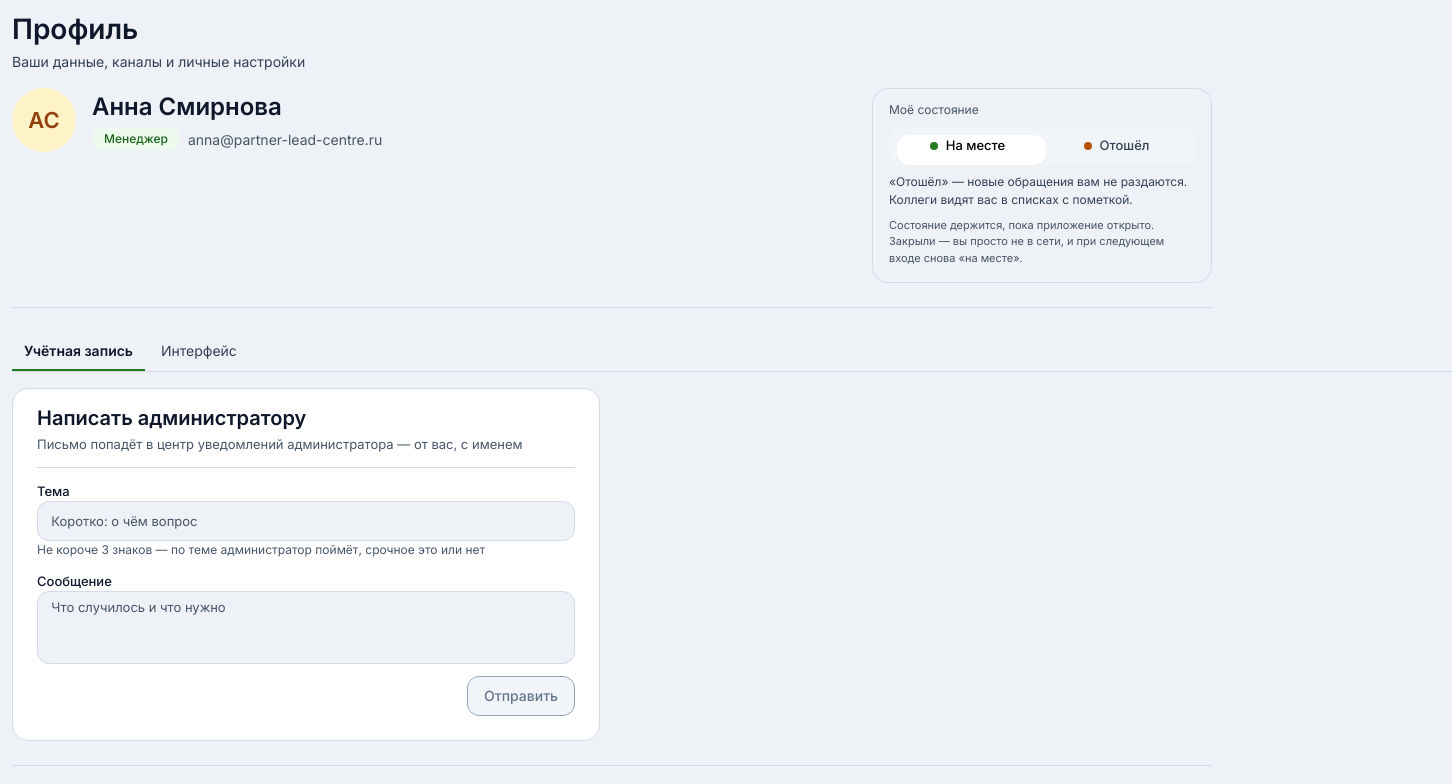
Test case: Форма «Написать администратору» (14 §2.2) › минимальная длина темы названа, а не спрятана в погасшей кнопке
The width and height of the screenshot is (1452, 784).
Expected: the text "Не короче 3 знаков" is shown, [37,542,485,557]
Type "ЗП" into the field labelled "Тема" at (306, 521), box [37,501,575,541]
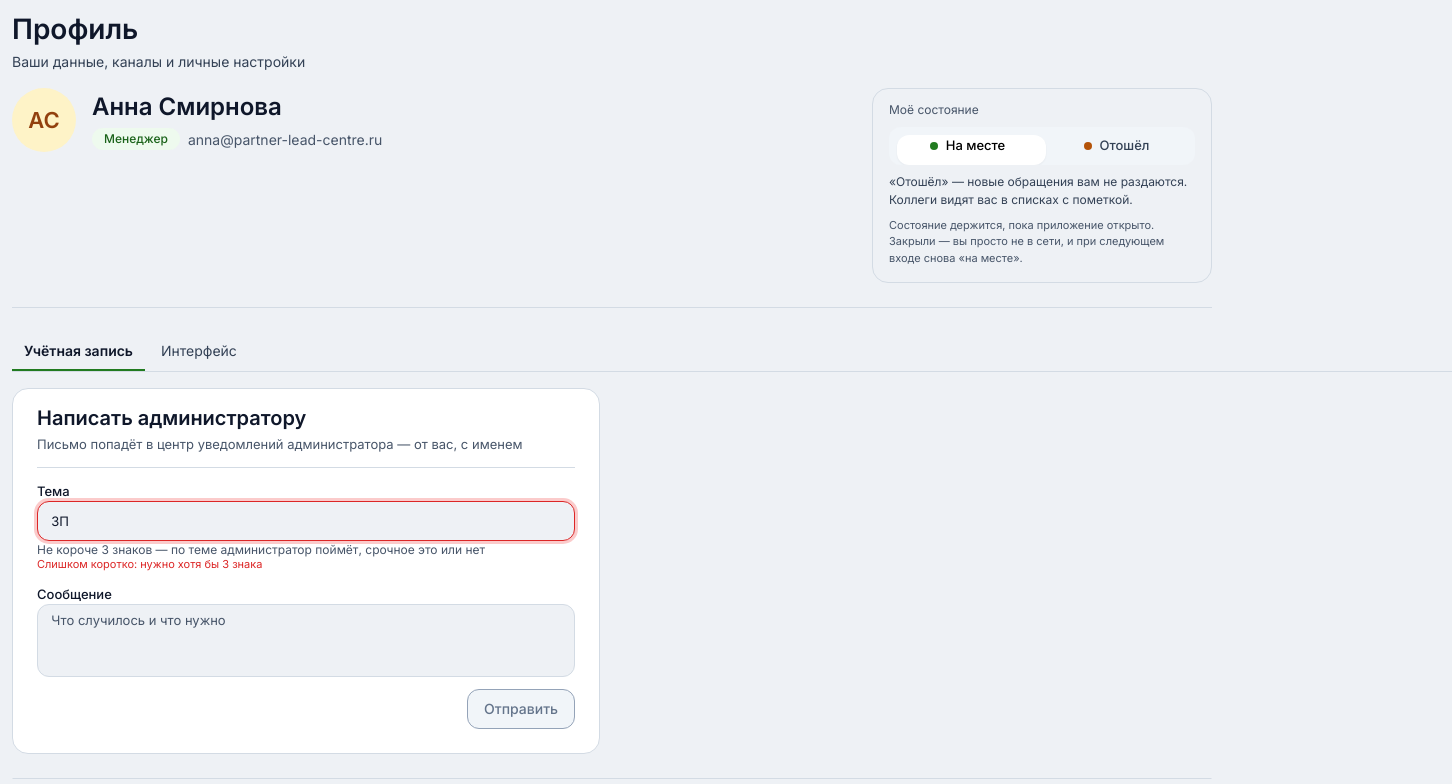
Expected: the text "Слишком коротко: нужно хотя бы 3 знака" is shown, [37,557,262,571]
Type " за июль" into the field labelled "Тема" at (306, 521), box [37,501,575,541]
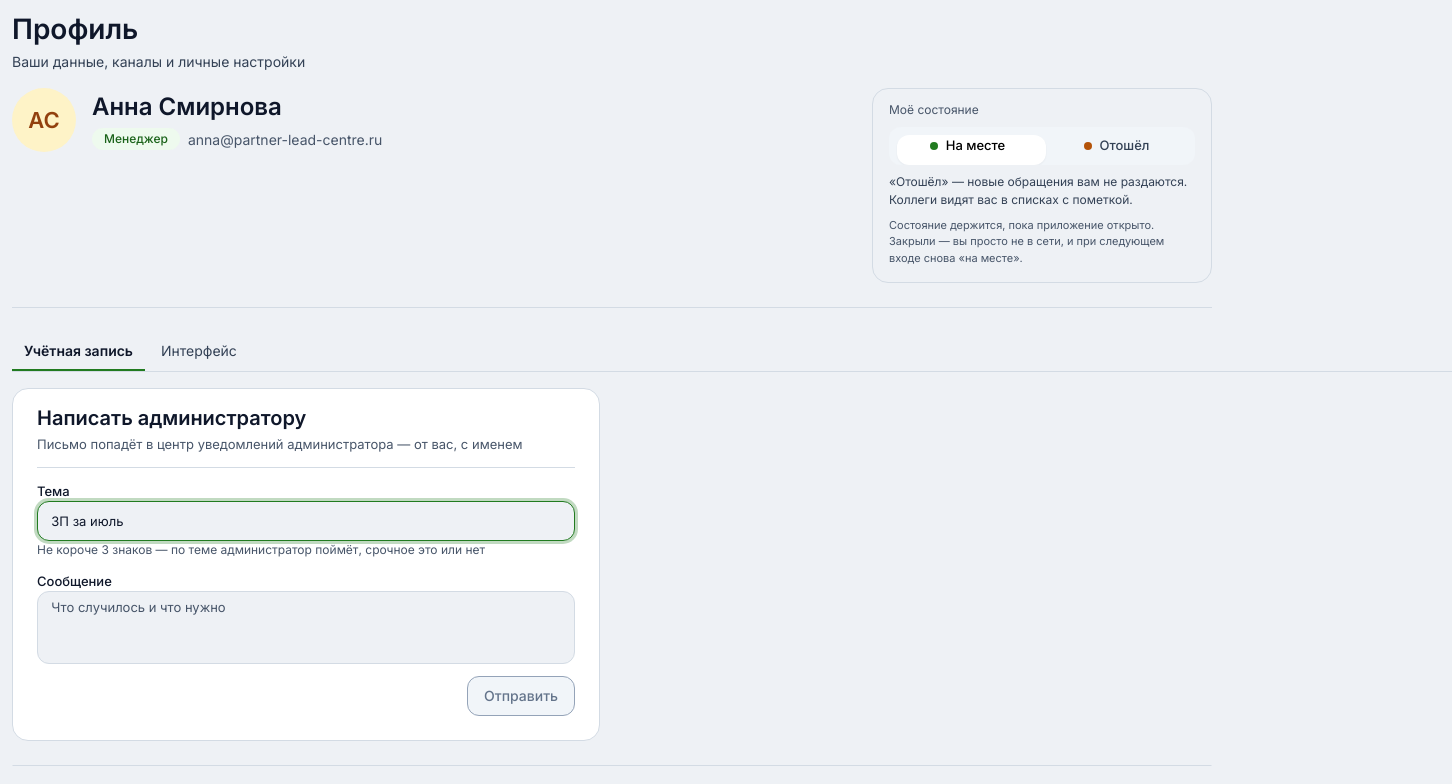
Expected: the text "Слишком коротко: нужно хотя бы 3 знака" is gone
